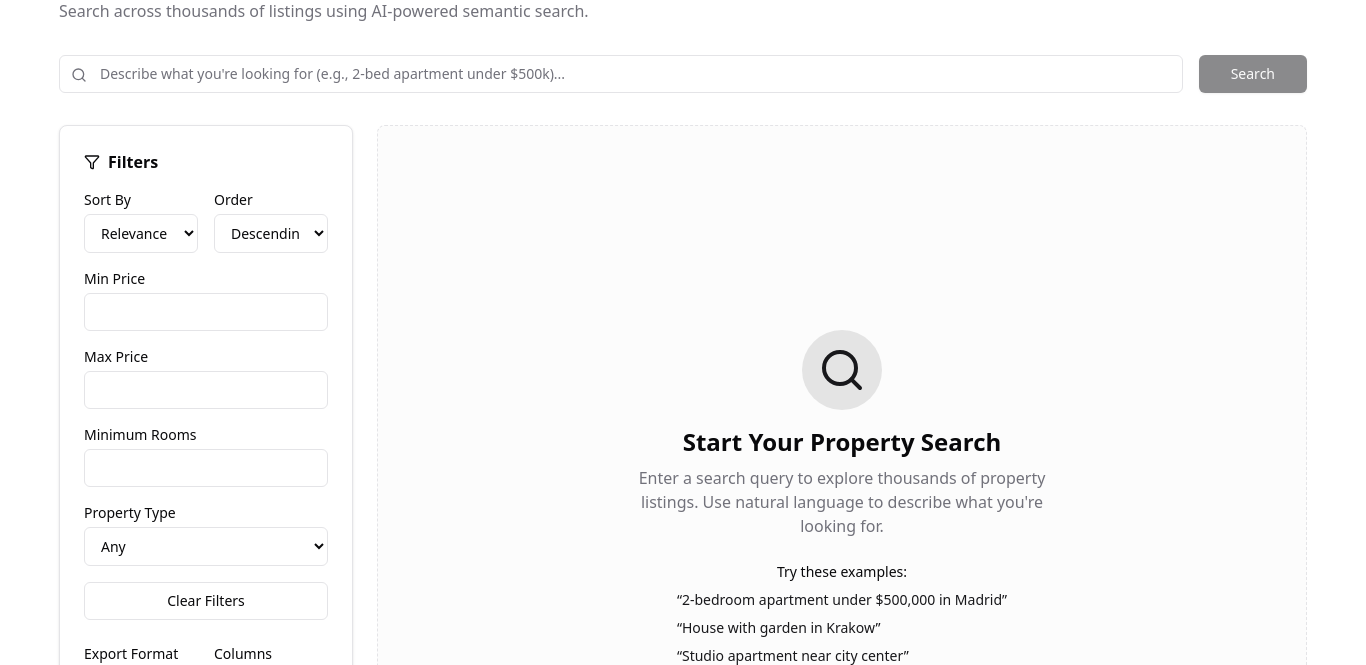
Test case: SearchPage › shows export error on failure
The image size is (1366, 665).
Step 1. Replace the text in the field named "Search query" with "Test" → (621, 74), box [59,55,1183,93]
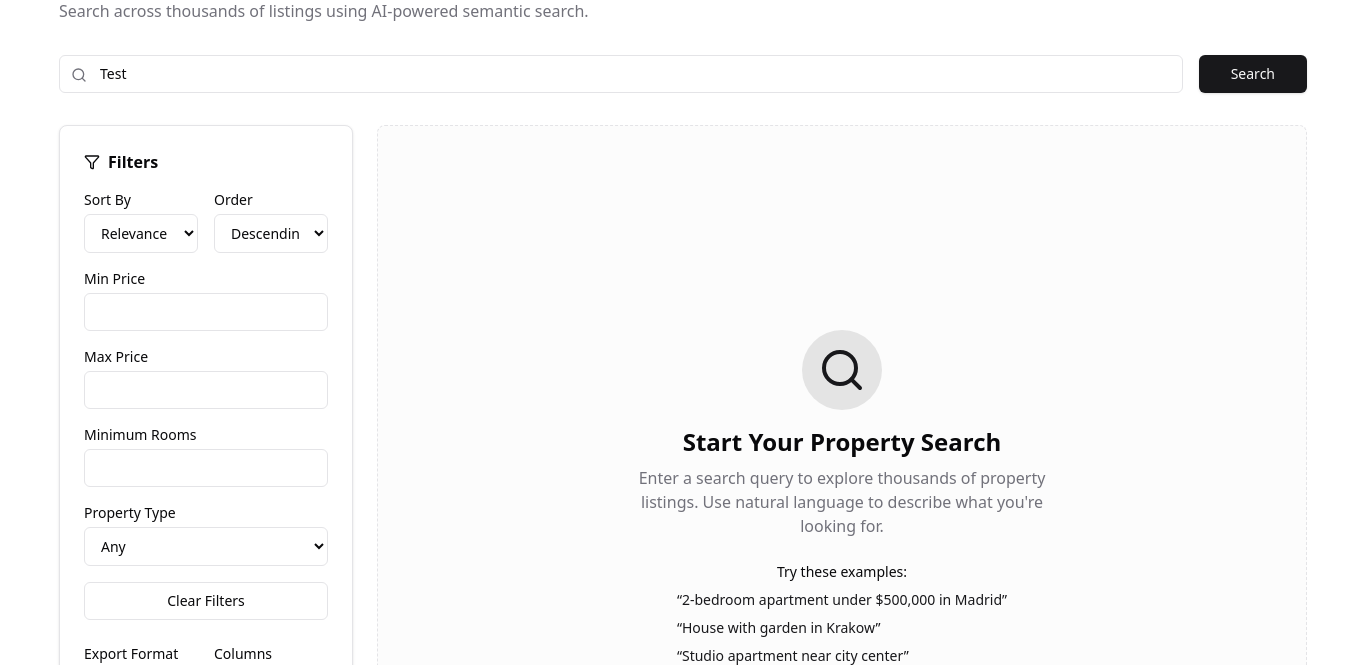
Step 2. Click the button "Search" → (1253, 74), box [1199,55,1307,93]
(page scrolled)
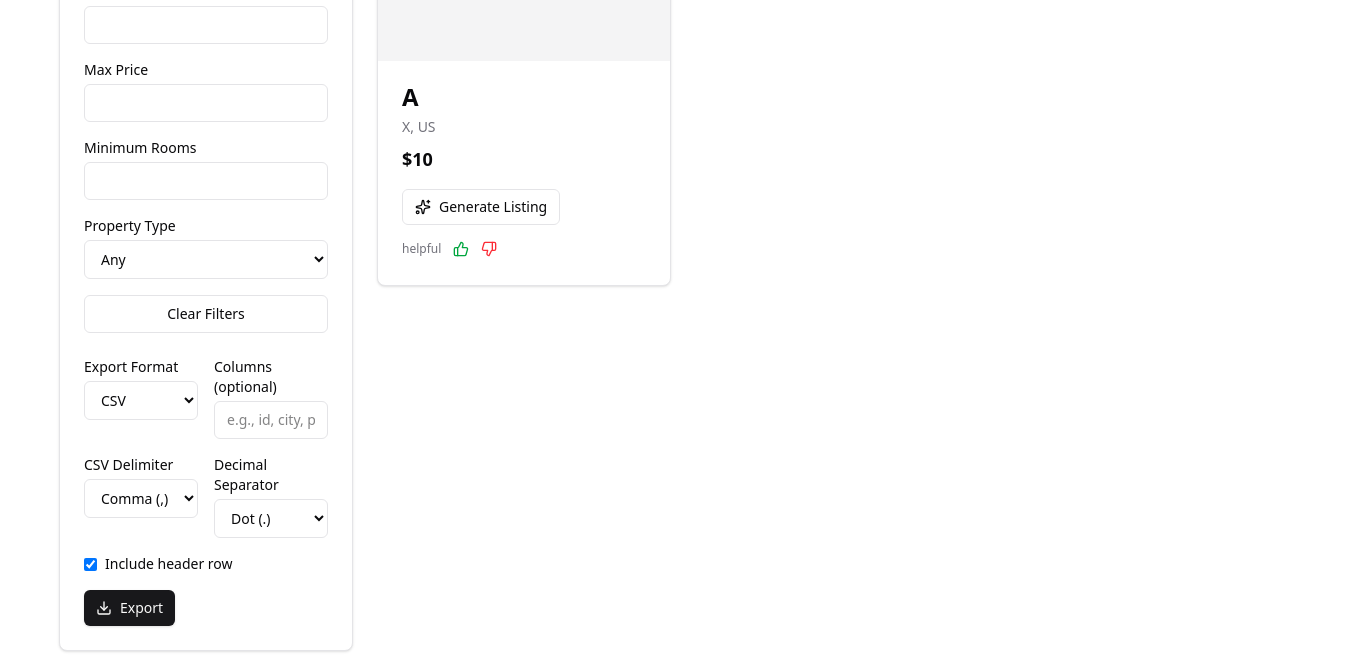
Expected: the heading "A" is shown, [402,80,418,113]
Step 3. Select "CSV" in the dropdown labelled "Export Format" → (141, 400), box [84,381,198,420]
Step 4. Click the button "Export" → (130, 608), box [84,590,175,626]
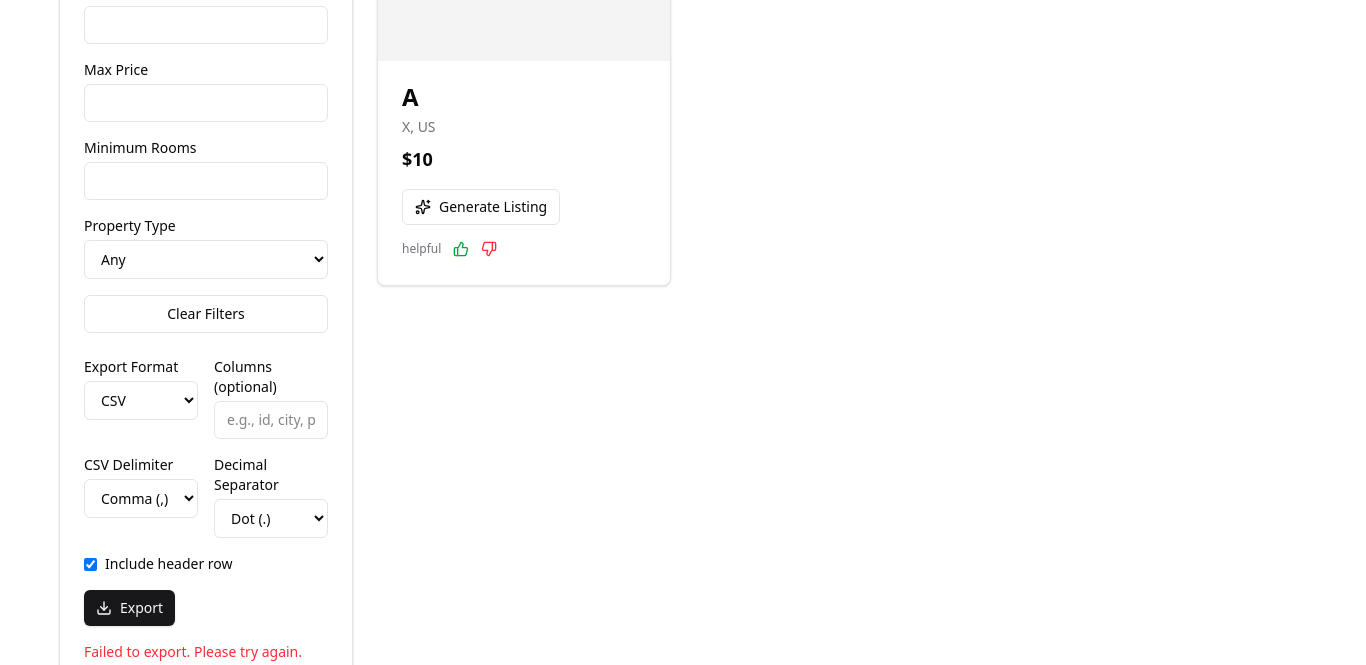
Expected: the message shows "Failed to export", [84,642,302,661]
